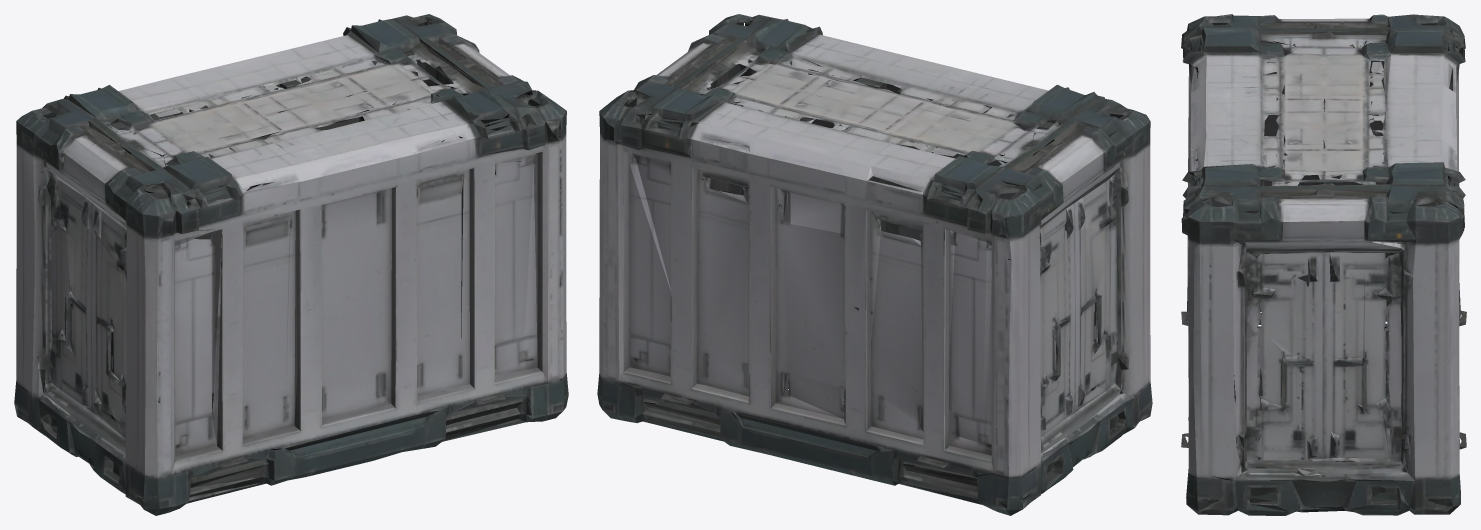
File: CargoB_Authored.glb
3 renders of one model, left to right at view 1: azimuth 30°, elevation 25°; view 2: azimuth 150°, elevation 25°; view 3: azimuth 270°, elevation 25°, orthographic.
Visible parts, largest first — view 1: CargoUnit_Intact; view 2: CargoUnit_Intact; view 3: CargoUnit_Intact.
Boxes of the visible parts, x1,y1,x2,y2 form: CargoUnit_Intact: [14, 14, 568, 515]; CargoUnit_Intact: [597, 14, 1152, 515]; CargoUnit_Intact: [1181, 14, 1466, 515].
Size of the model in its own units: 1 by 0.7358 by 0.5932.
1 material, 1 textured.
